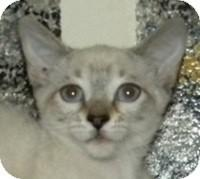siamese: (17, 1, 191, 175)
